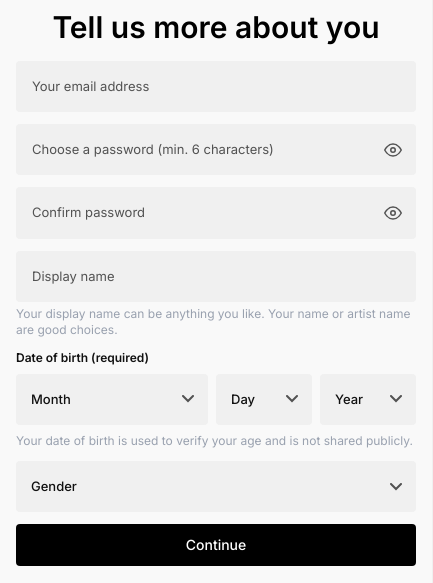
Test: RegisterationForm › keeps auto-suggested display name in sync with email changes until user edits it
Type "first@decibel.test" into the field named "email" at [216, 87], box [16,61,416,112]
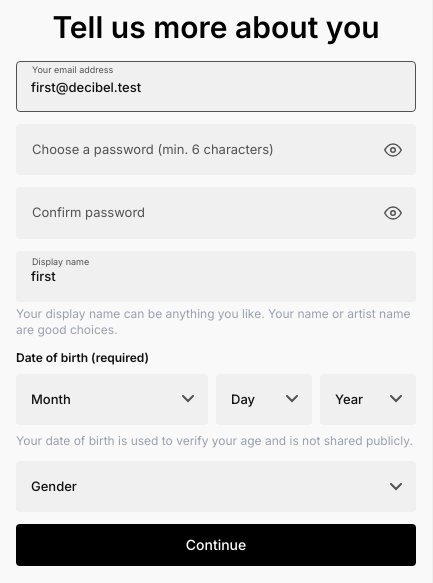
Expected: the field named "displayName" holds "first", [16,251,416,302]
Replace the text in the field named "email" with "second@decibel.test" at [216, 87], box [16,61,416,112]
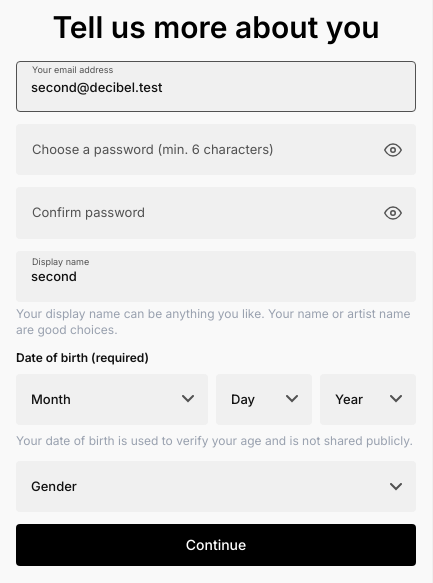
Expected: the field named "displayName" holds "second", [16,251,416,302]
